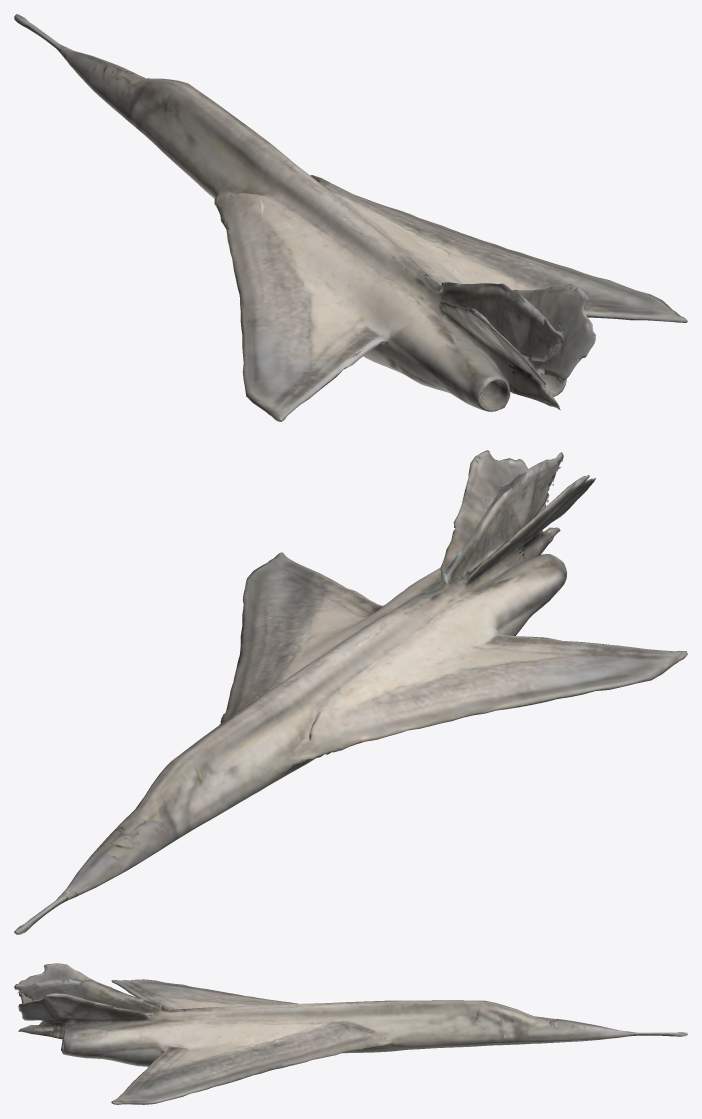
The model's file is jetsketch1.glb.
3 renders of one model, top to bottom at view 1: azimuth 30°, elevation 25°; view 2: azimuth 150°, elevation 25°; view 3: azimuth 270°, elevation 25°, orthographic. The views are drawn at different scales.
Bounding box in the file's own units: 0.8757 × 0.2872 × 2.03.
1 material, 1 textured.
